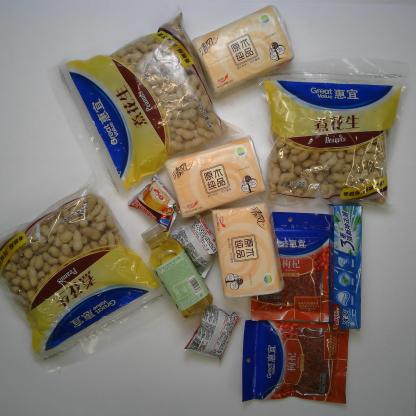Dessert: (184, 305, 243, 363), (173, 215, 221, 278), (131, 176, 182, 233)
Dried Food: (51, 12, 240, 195), (1, 184, 165, 371), (264, 57, 396, 207)
Dried Fruit: (249, 201, 333, 321), (242, 321, 349, 405)
Drink: (140, 224, 217, 321)
Personal Hygiene: (331, 204, 365, 331)
Tissue: (193, 5, 299, 92), (166, 137, 266, 216), (214, 207, 283, 298)
